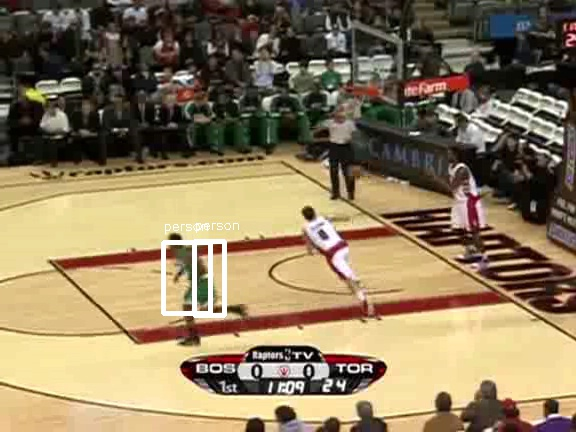person: (178, 239, 212, 320), (177, 239, 211, 320), (179, 239, 213, 320), (178, 238, 212, 319), (178, 240, 212, 321)
target_negative: (84, 57, 499, 304), (92, 140, 135, 394), (76, 407, 563, 427), (320, 332, 381, 420), (532, 326, 538, 353)
